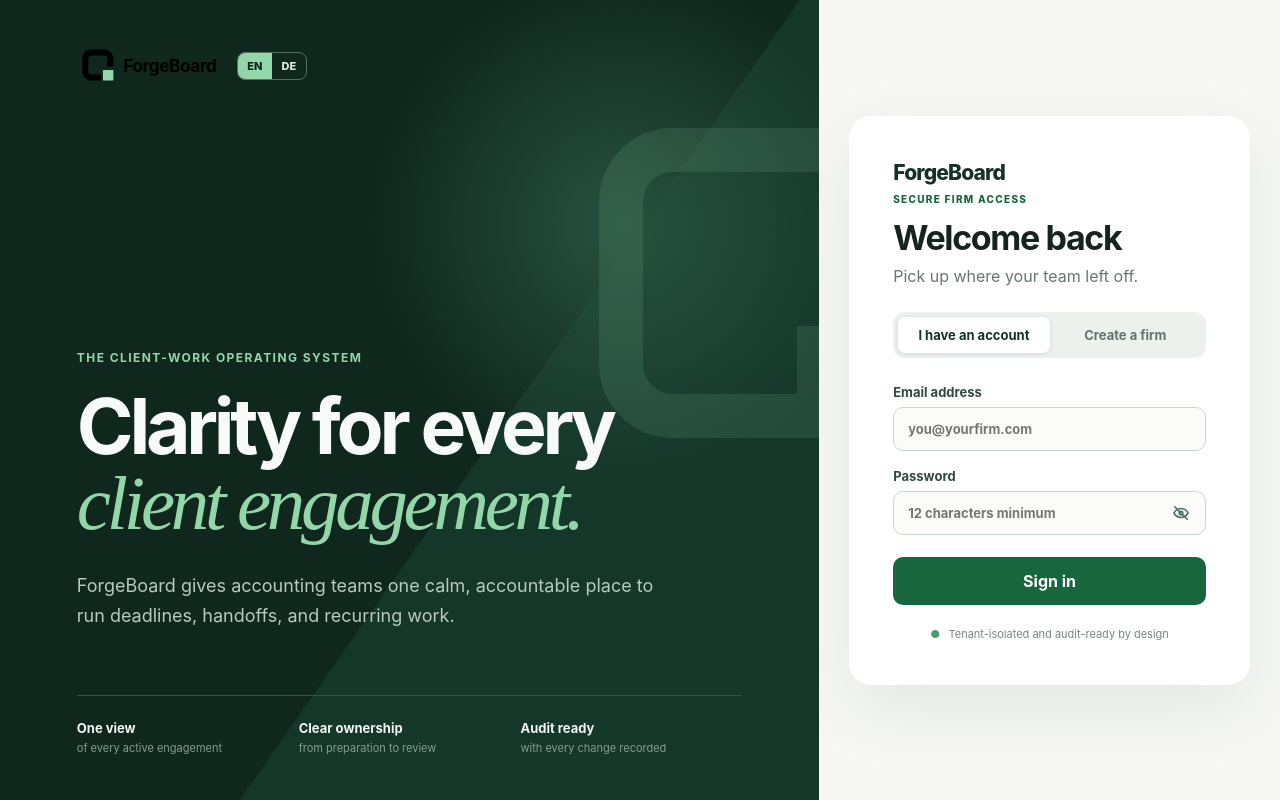
Test: App › signs an existing owner in
In the field labelled "Email address": (1050, 428) [893,406,1206,450], type "owner@example.com"
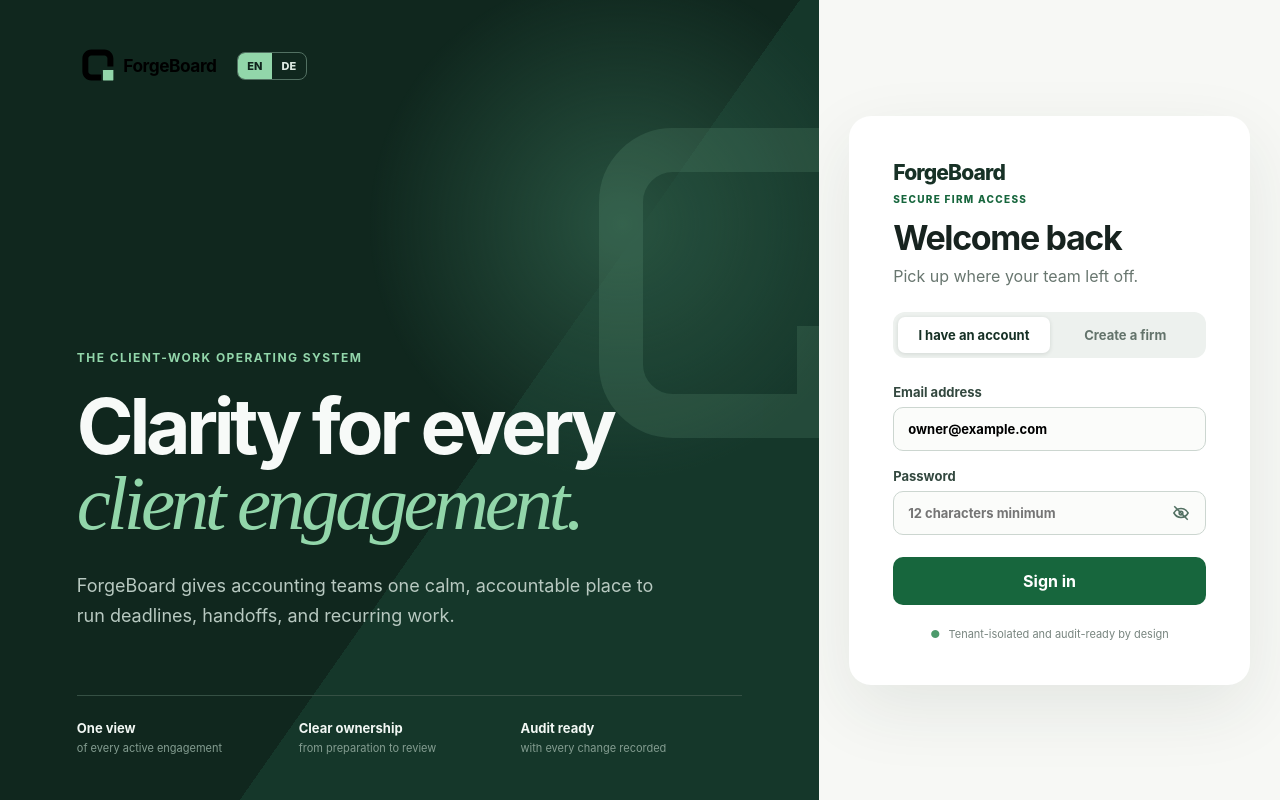
In the password field labelled "Password": (1050, 512) [893,490,1206,534], type "long-secret-password"
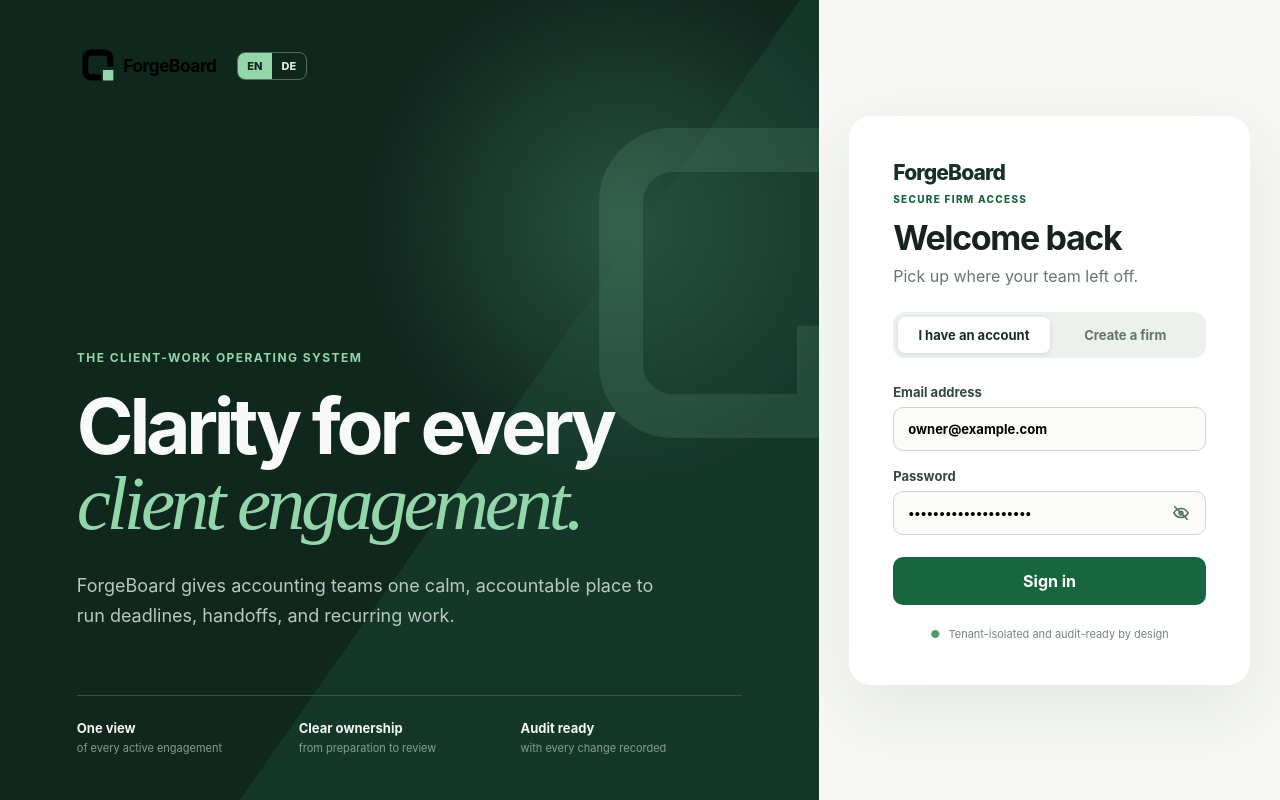
Click the button "Sign in": (1050, 580) [893,556,1206,604]
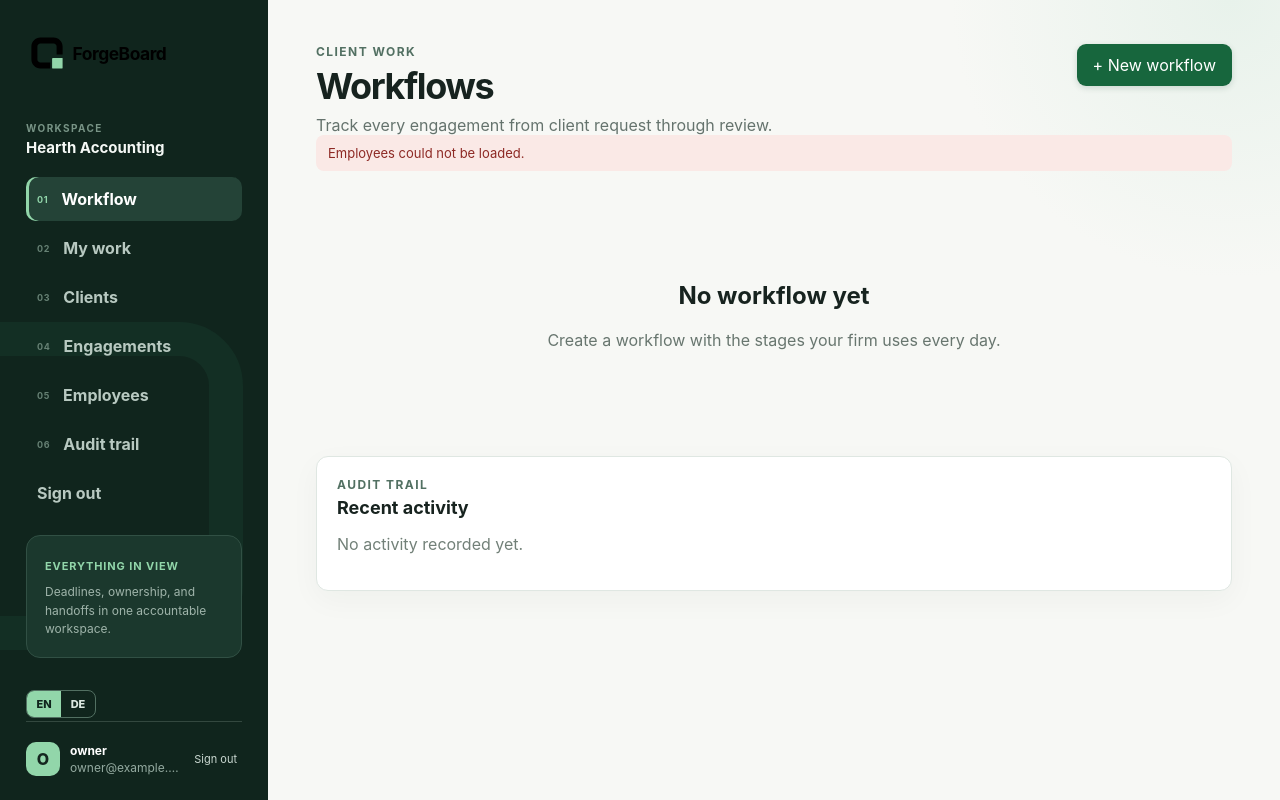
Check: the heading "Workflows" is shown, box [316,64,493,108]
